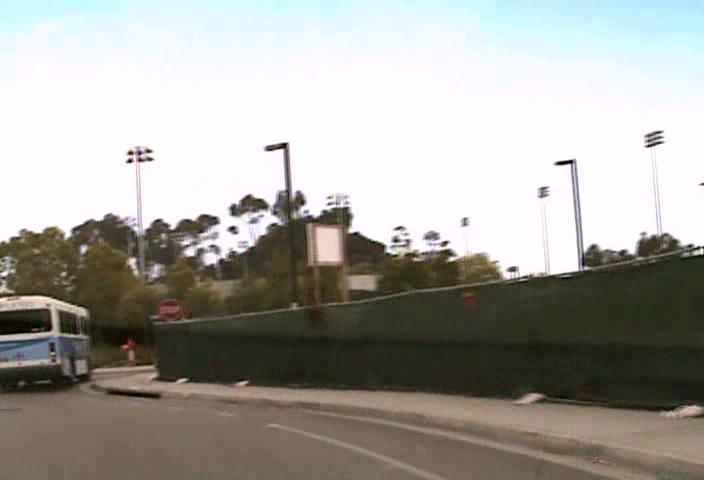stop: (157, 296, 183, 322)
